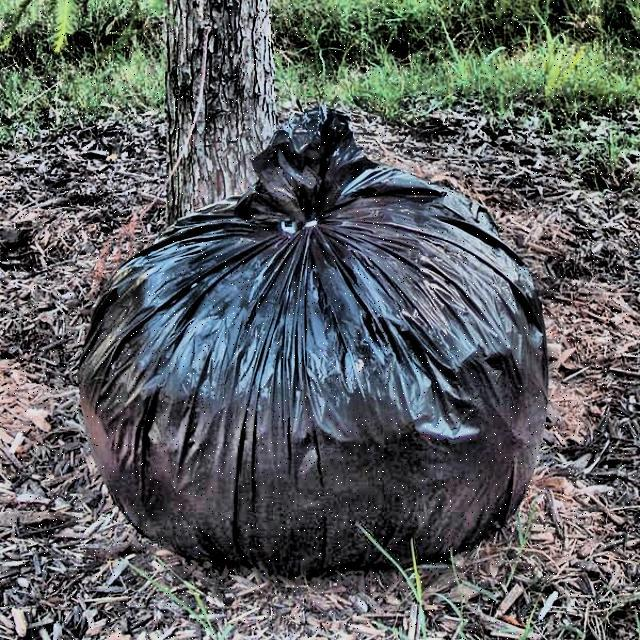Trashbag: (63, 143, 559, 583)
